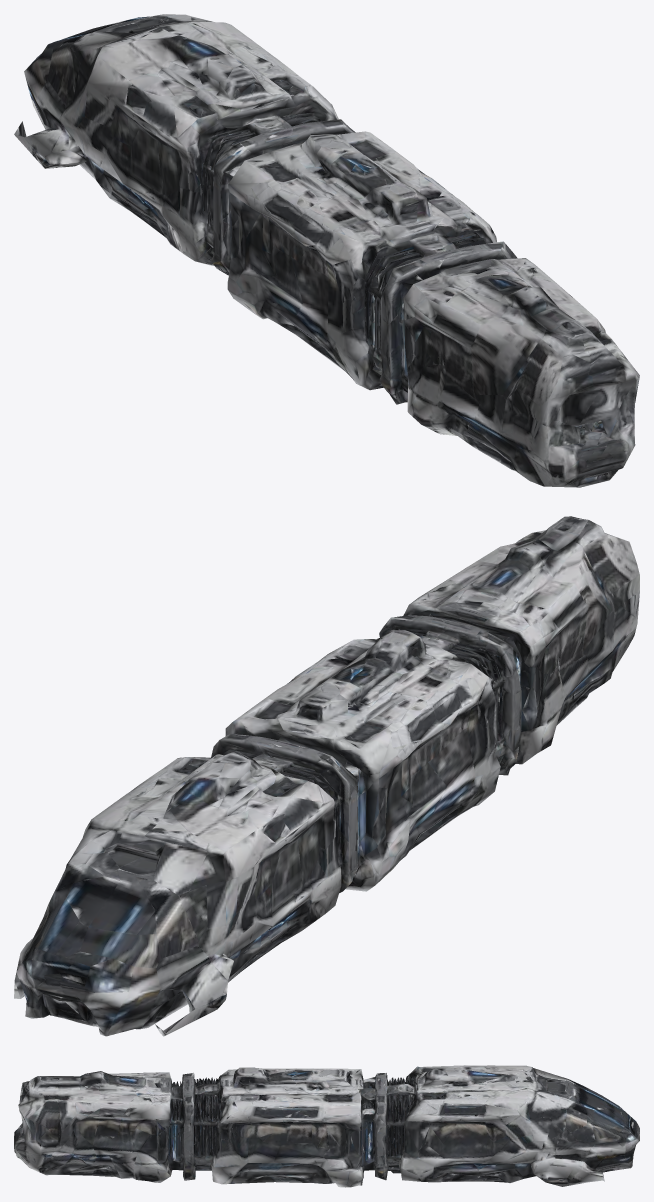
The model's file is tide-train.glb.
3 renders of one model, top to bottom at view 1: azimuth 30°, elevation 25°; view 2: azimuth 150°, elevation 25°; view 3: azimuth 270°, elevation 25°, orthographic. The views are drawn at different scales.
Parts seen in each view (by area): view 1: body_mesh; view 2: body_mesh; view 3: body_mesh.
Boxes of the visible parts, box(x1,y1,x2,y2) form: body_mesh: box(14, 14, 639, 487); body_mesh: box(14, 516, 639, 1036); body_mesh: box(14, 1065, 639, 1187).
Bounding box in the file's own units: 4.25 × 3.84 × 21.49.
1 material, 1 textured.
